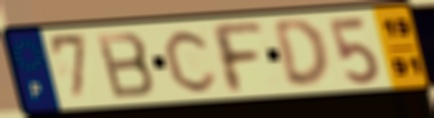5: (325, 14, 384, 86)
7: (46, 32, 91, 105)
B: (93, 30, 158, 101)
C: (162, 27, 221, 95)
D: (270, 17, 332, 90)
F: (206, 21, 267, 96)
